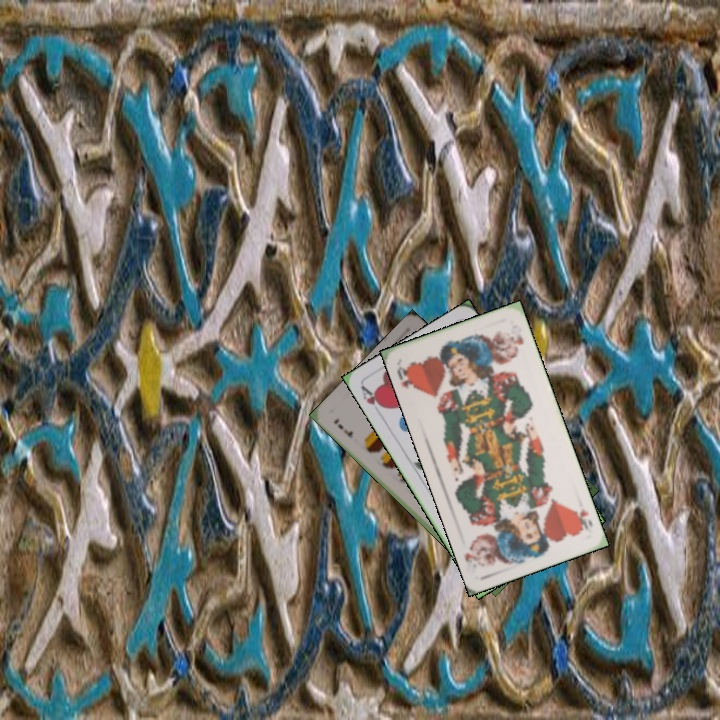E7: (330, 414, 356, 440)
HA: (357, 382, 388, 418)
HO: (570, 504, 595, 535), (393, 362, 418, 391)
